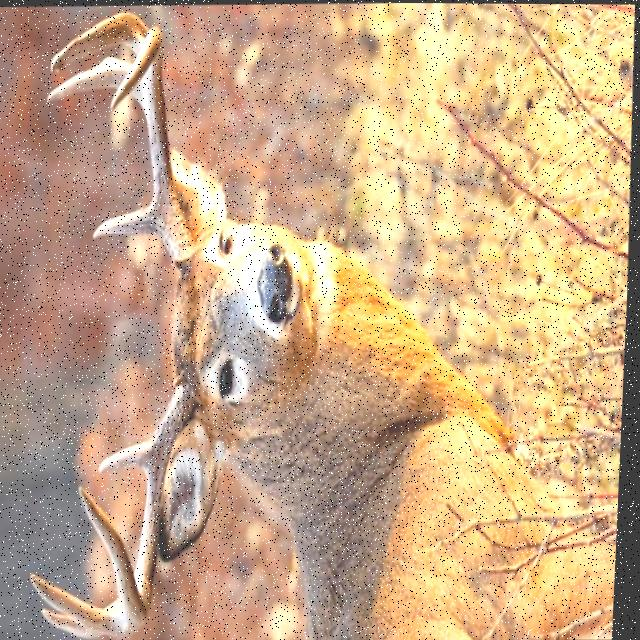L-F: (82, 368, 206, 633)
L-G1: (102, 430, 158, 475)
L-G3: (35, 570, 133, 636)
R-F: (111, 23, 201, 276)
R-G1: (95, 192, 163, 240)
R-G3: (50, 9, 150, 73)
